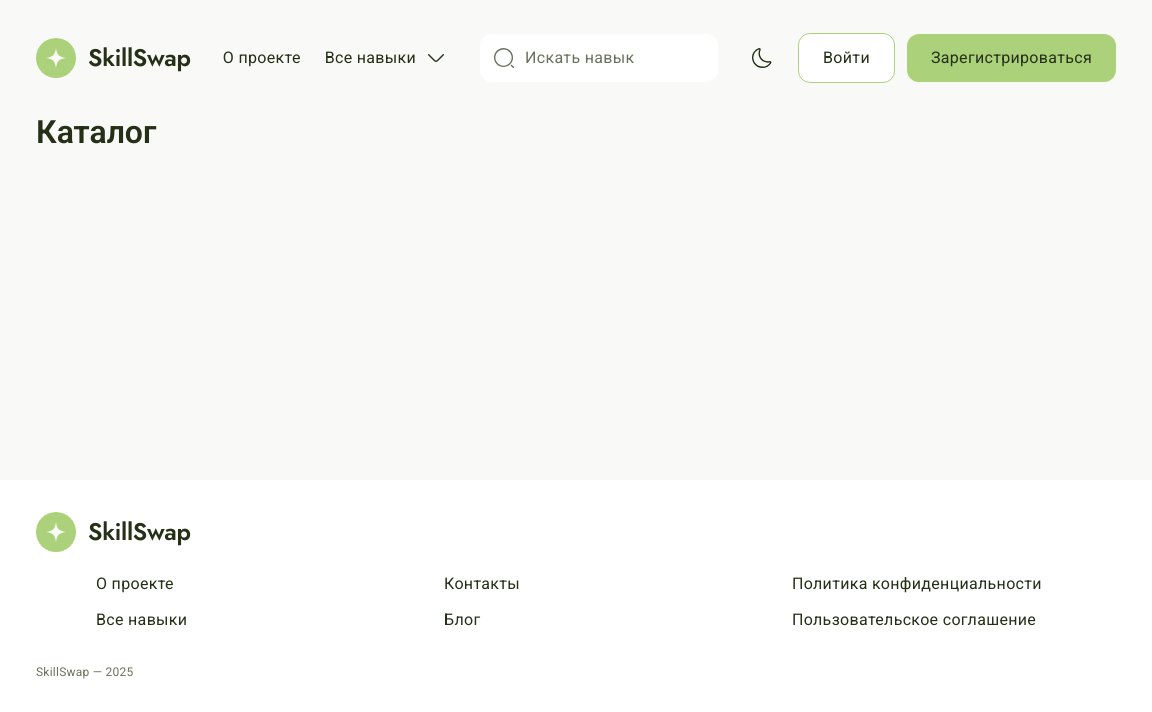
it: MainLayout — Все навыки › ссылка из подвала ведёт на страницу с теми же шестью категориями
Click the link "Все навыки": (142, 620) [96,610,187,629]
(page scrolled)
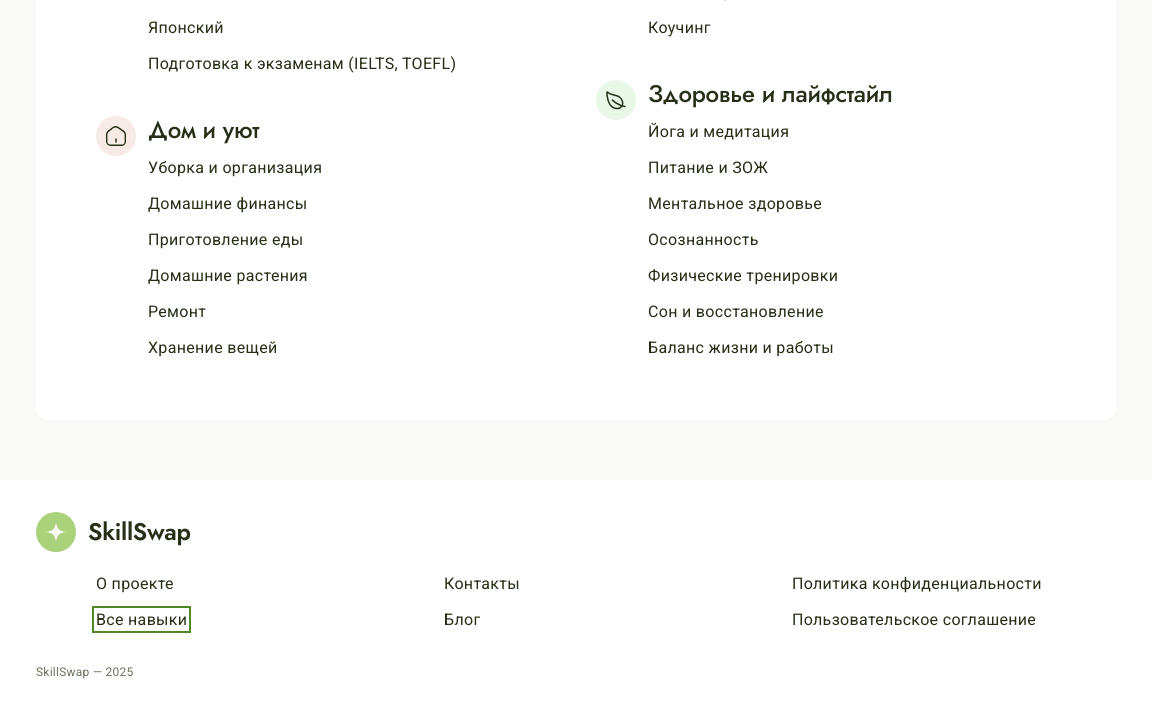
Expected: the footer is shown, [0,480,1151,711]
Result: the number of headings is 6
